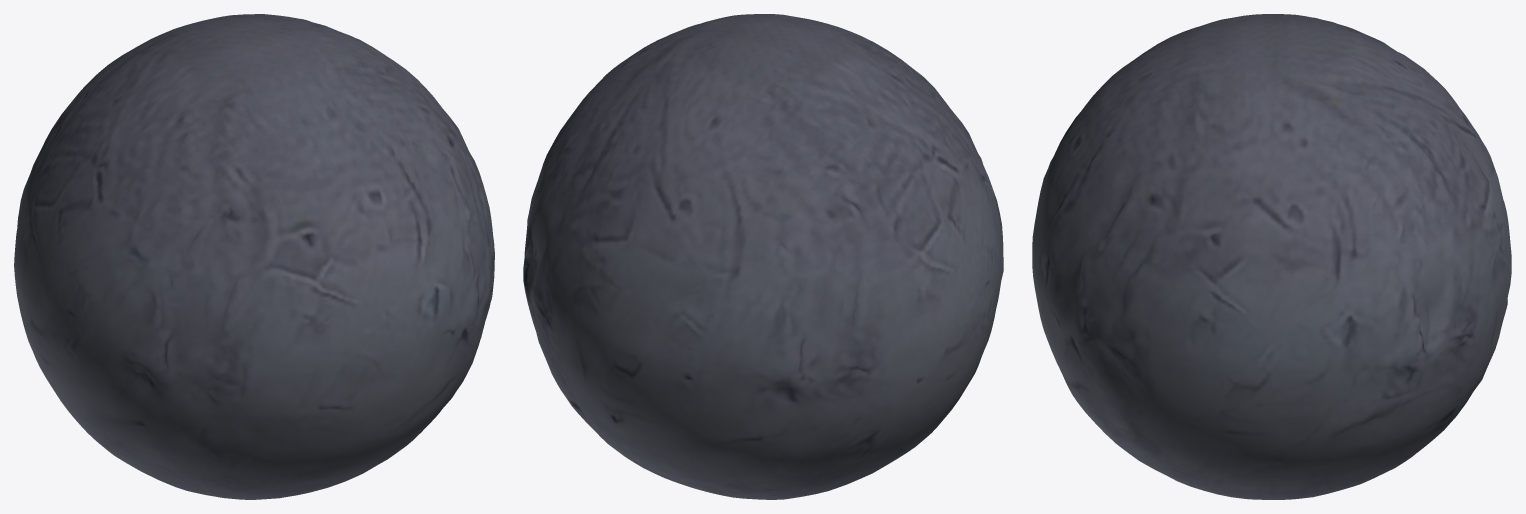
The model's file is 9da0a8d670a8_space_comet__3d_ass.fbx.
The picture shows the model from 3 angles, left to right: view 1: azimuth 30°, elevation 25°; view 2: azimuth 150°, elevation 25°; view 3: azimuth 270°, elevation 25°; orthographic projection.
Parts seen in each view (by area): view 1: mesh; view 2: mesh; view 3: mesh.
Boxes of the visible parts, x1,y1,x2,y2 form: mesh: (14, 14, 494, 499); mesh: (523, 14, 1003, 499); mesh: (1032, 14, 1511, 499).
Size of the model in its own units: 97.84 by 99.97 by 97.93.
